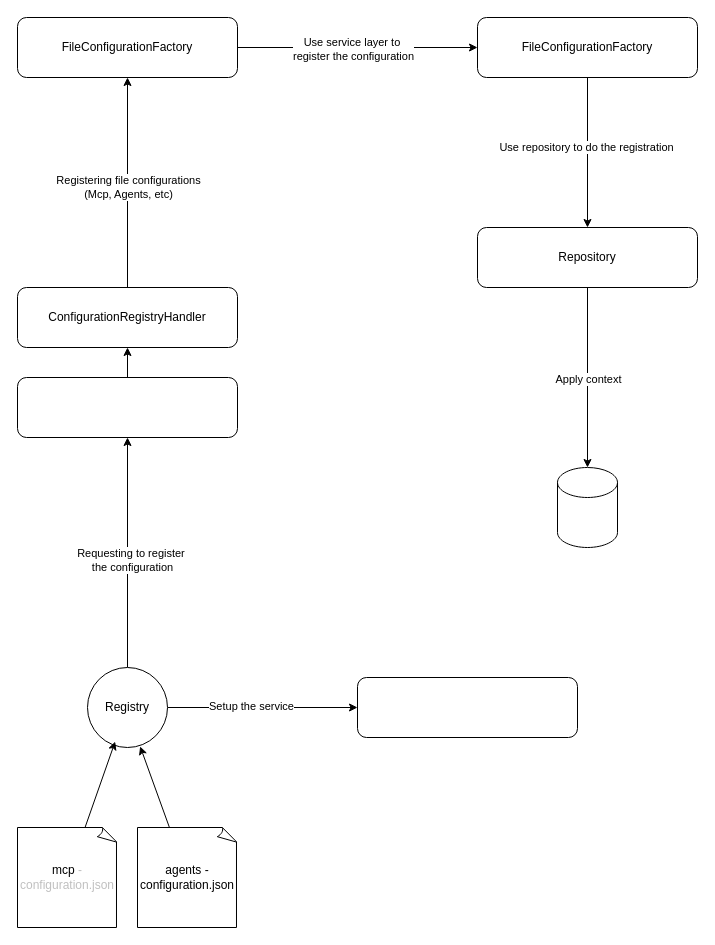
Image size: 715x945. Some labels were removed from this diagram. The centre of each missing label's shape, as x and y in pixels:
Application (Layer): (127,407)
db: (587,507)
Startup: (467,707)
